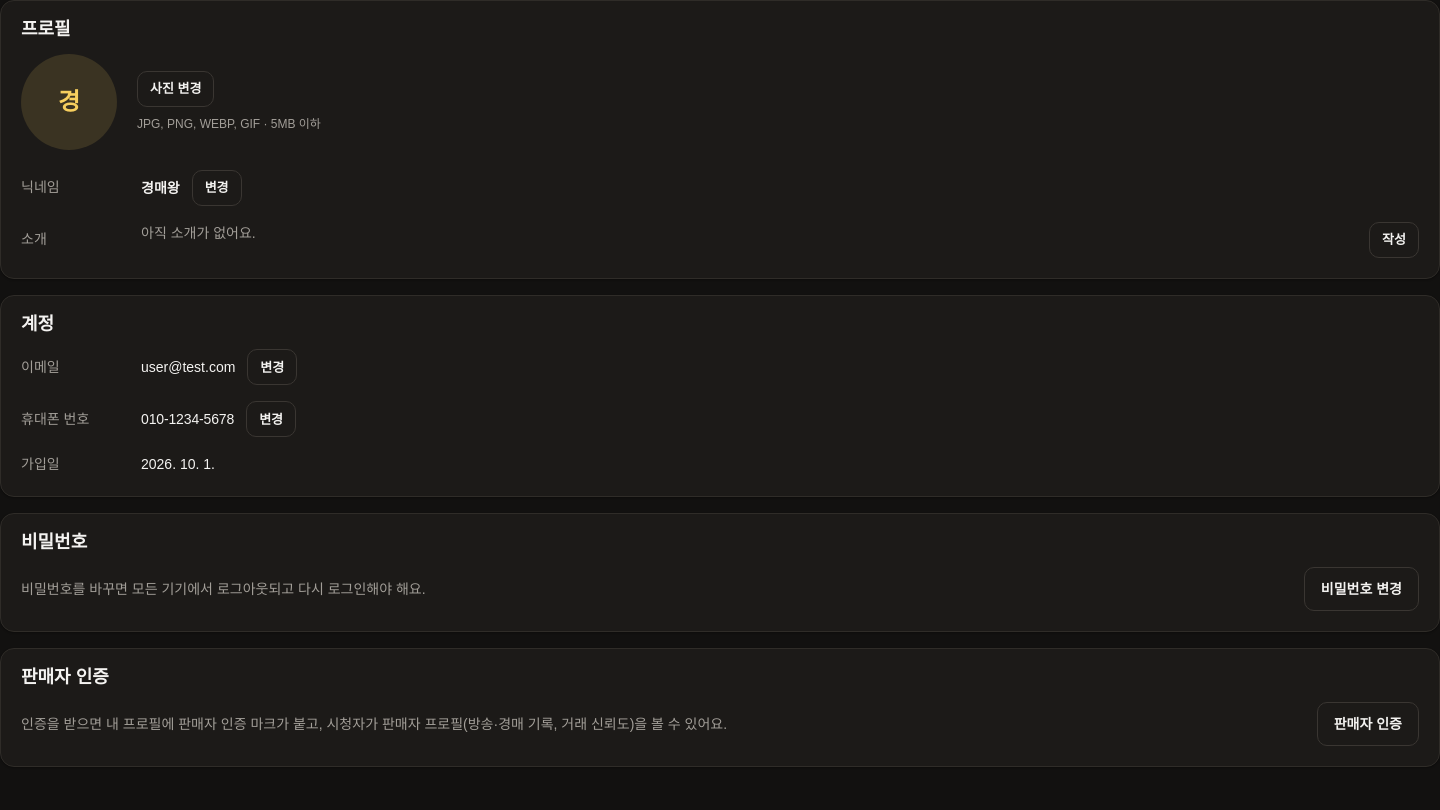
Test: MyInfoContent 닉네임 변경 › 바꾸고 나면 성공 안내와 다음 변경 가능 시각을 보여준다
Click the button "변경" next to "경매왕".
click(217, 188)  # box [192,170,242,206]
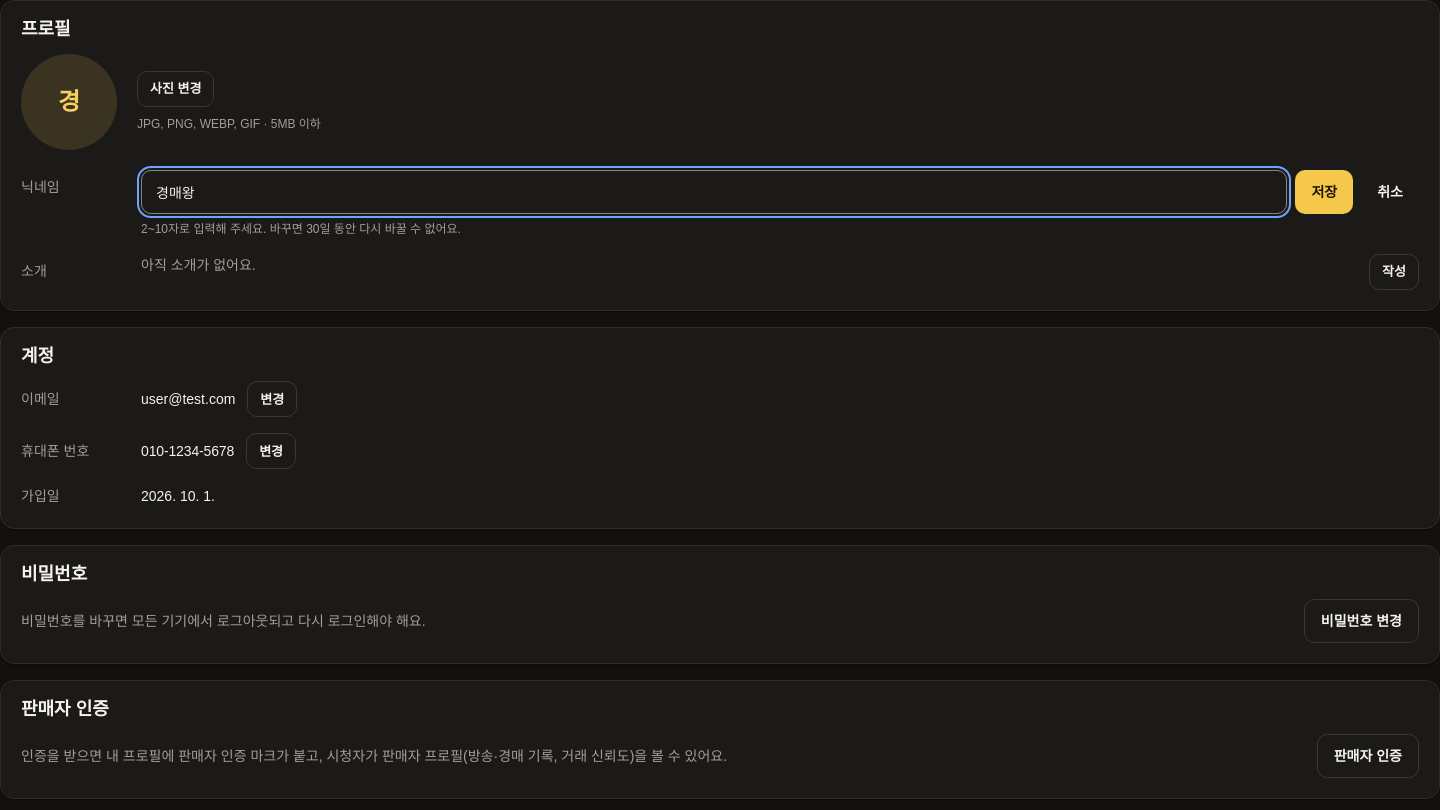
Replace the text in the field named "새 닉네임" with "새닉네임" at (714, 192), box [141,170,1288,214]
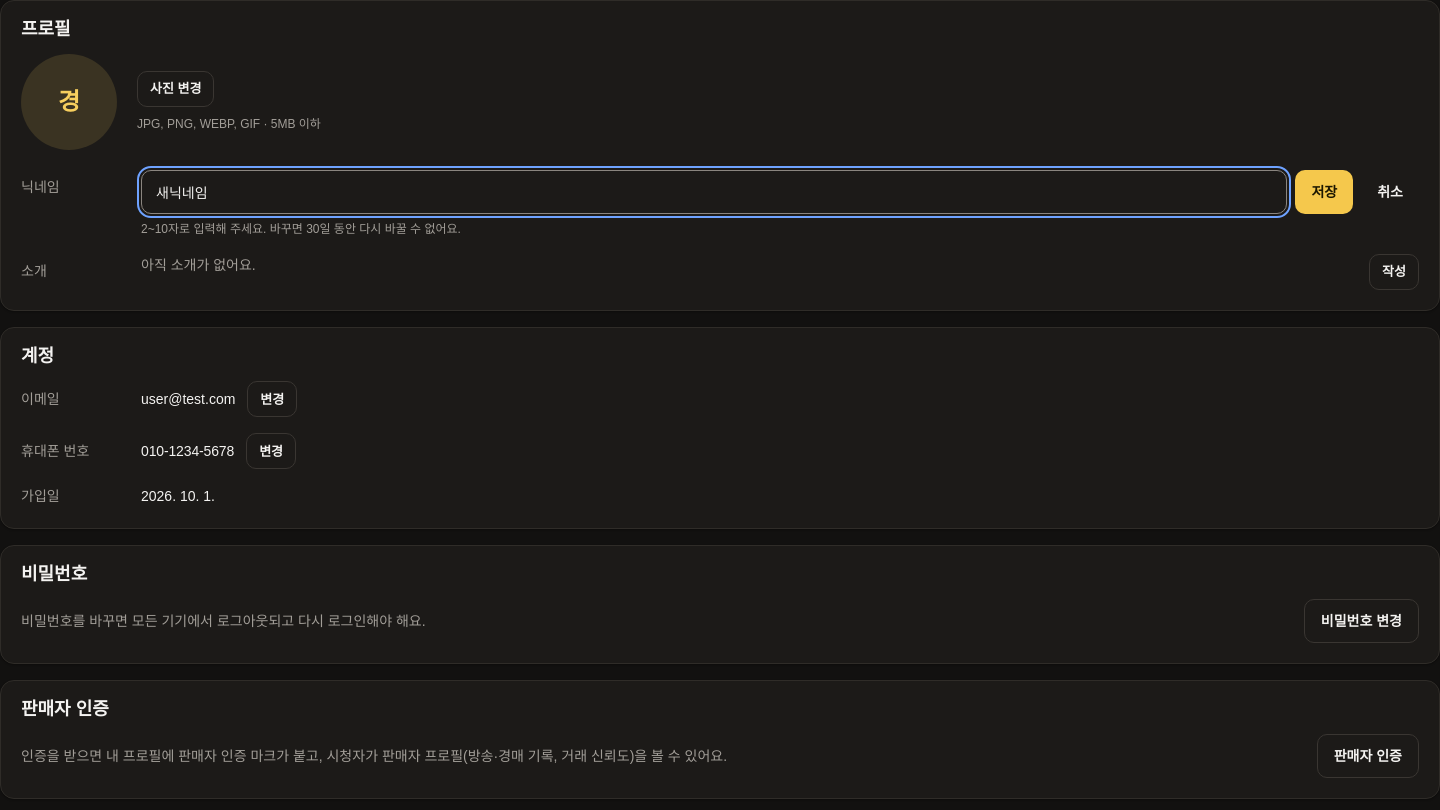
Click the button "저장".
click(1324, 192)  # box [1296,170,1353,214]
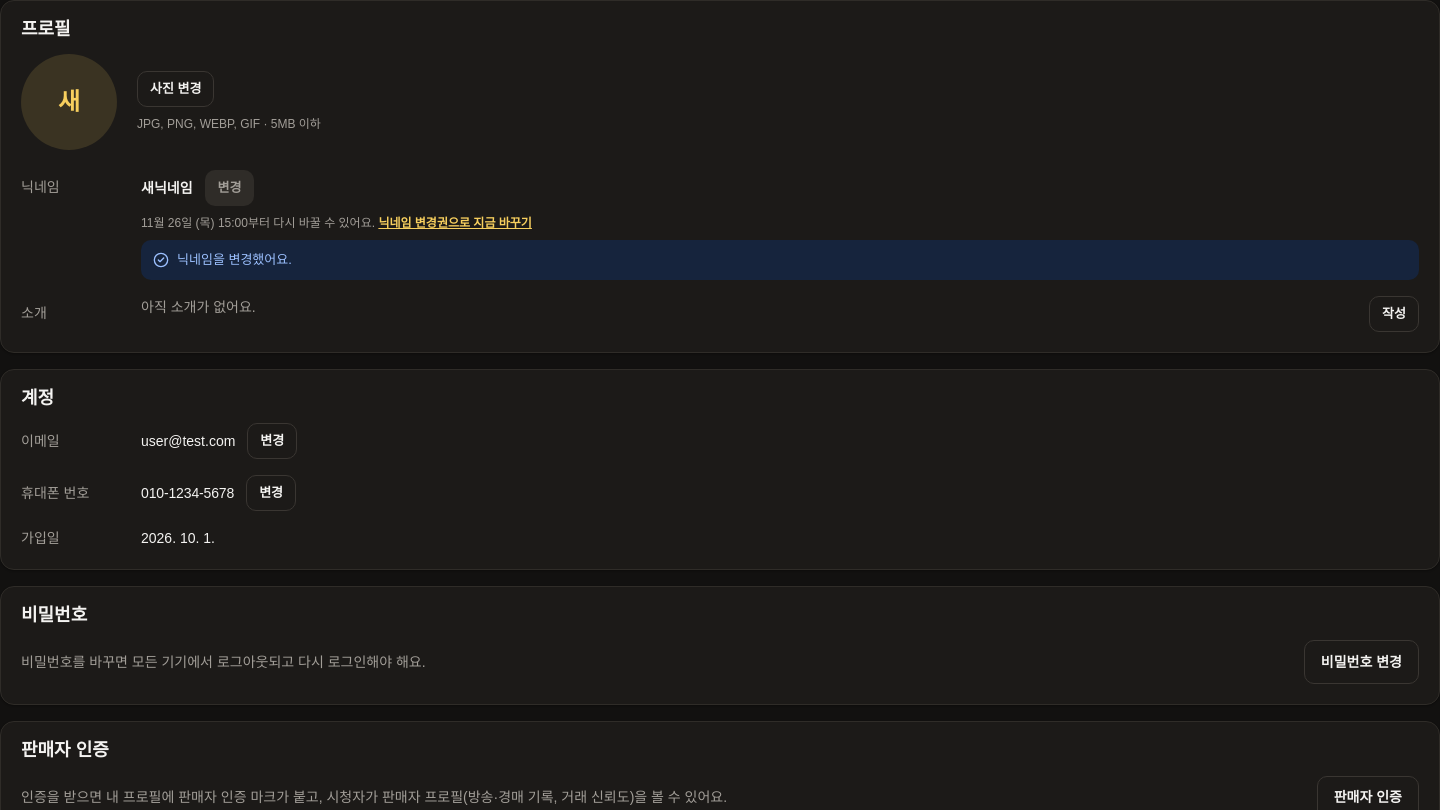
Expected: the text "닉네임을 변경했어요." is shown, [177,250,292,270]
Expected: the text "새닉네임" is shown, [141,177,192,199]
Expected: the button "변경" next to "새닉네임" is disabled, [204,170,254,206]
